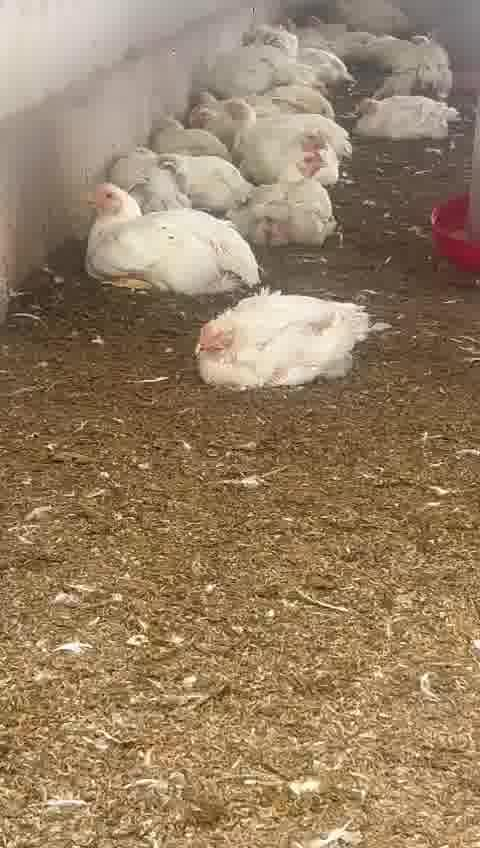AbNormal: (191, 287, 385, 392), (121, 144, 221, 206), (143, 113, 232, 166), (184, 78, 228, 125)
Normal: (76, 184, 254, 294), (223, 99, 356, 179), (234, 151, 340, 241), (346, 76, 474, 146)
